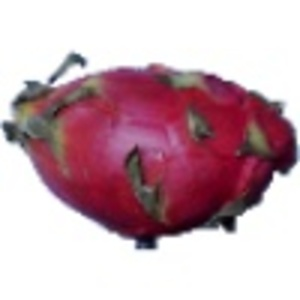pitaia: (1, 50, 300, 253)
